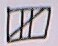kok: (2, 1, 54, 45)
